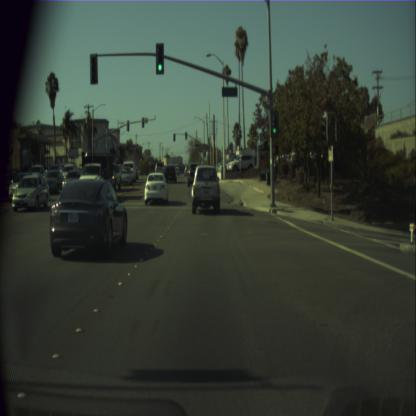Green: (155, 42, 164, 74), (270, 110, 279, 138), (204, 151, 206, 156)
off: (90, 54, 98, 84), (173, 133, 175, 141), (185, 132, 187, 140)
